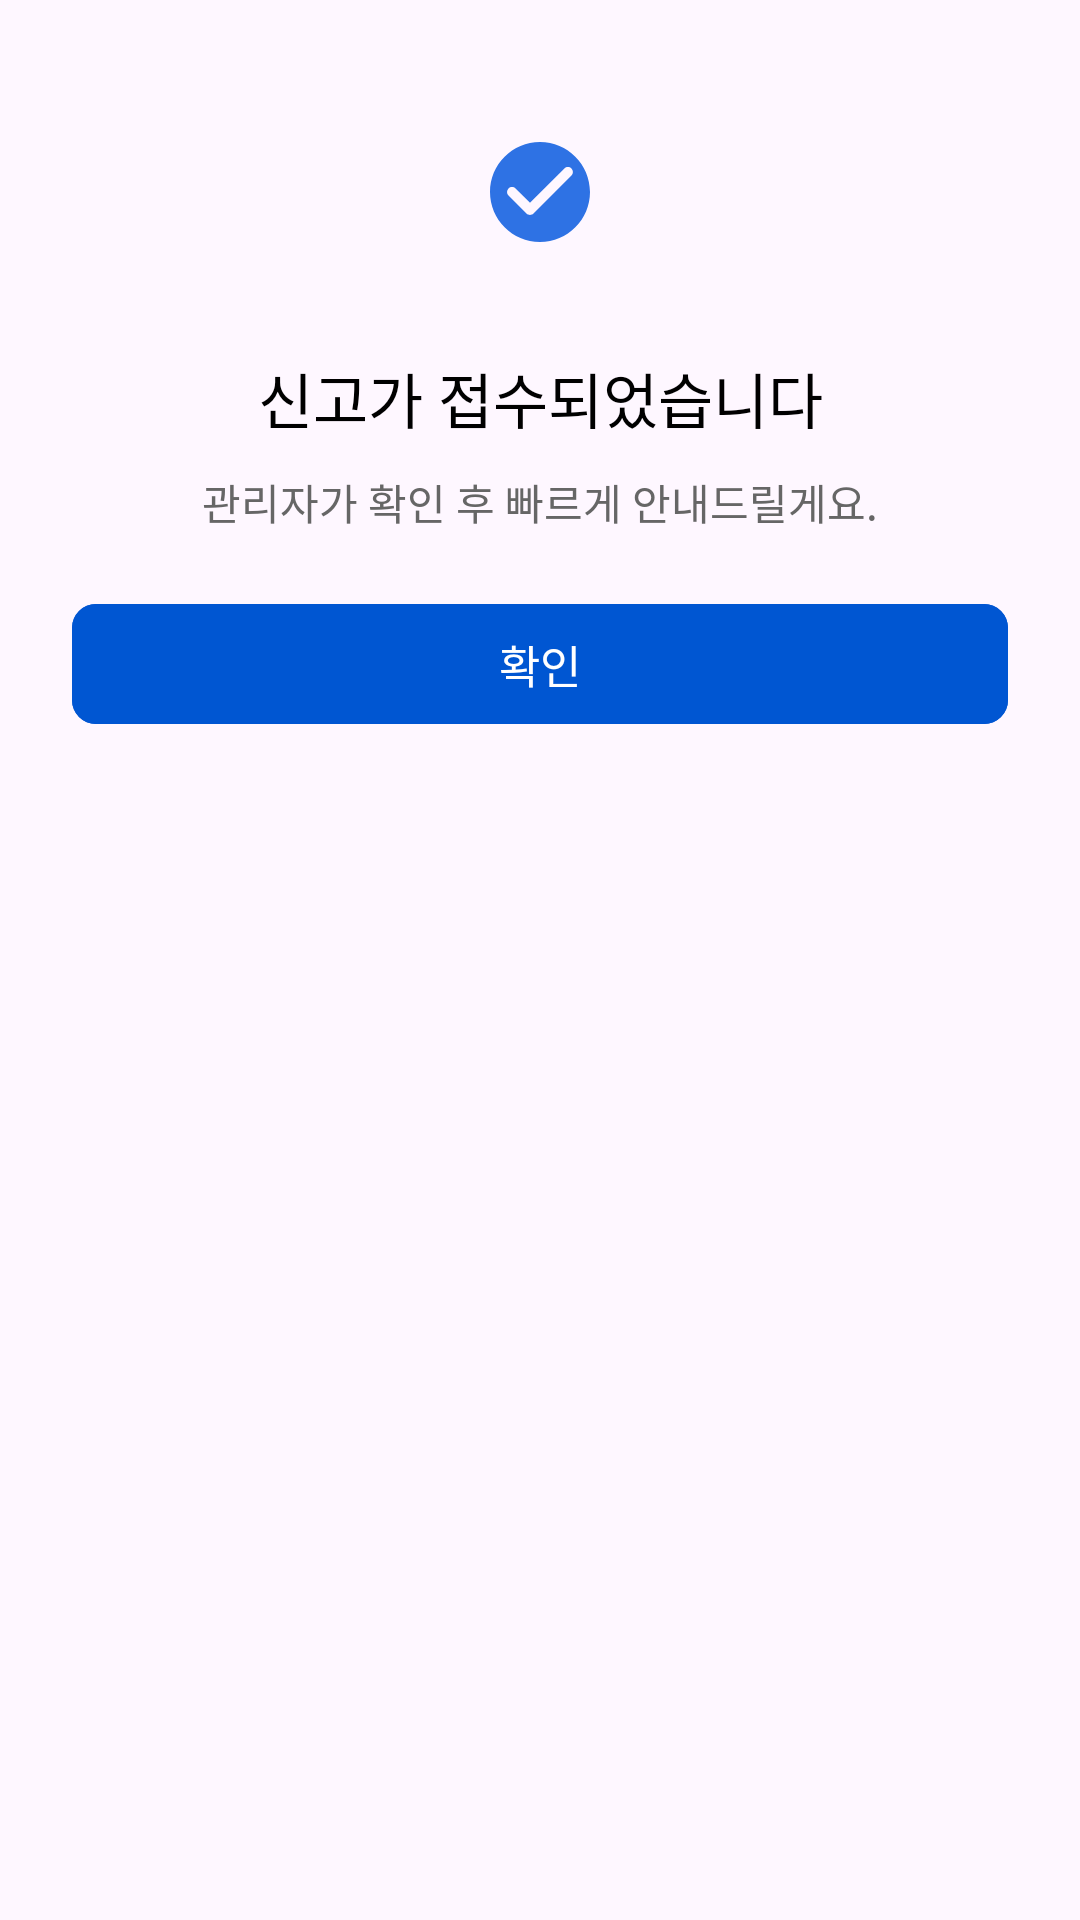

Screen size 1080w x 1920h. Icon name, then its box in pixels as detection(x1, y1, x2, y2):
check circle: detection(490, 142, 590, 242)
